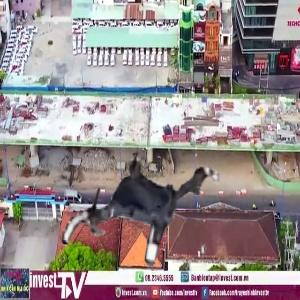drone: (60, 124, 226, 290)
